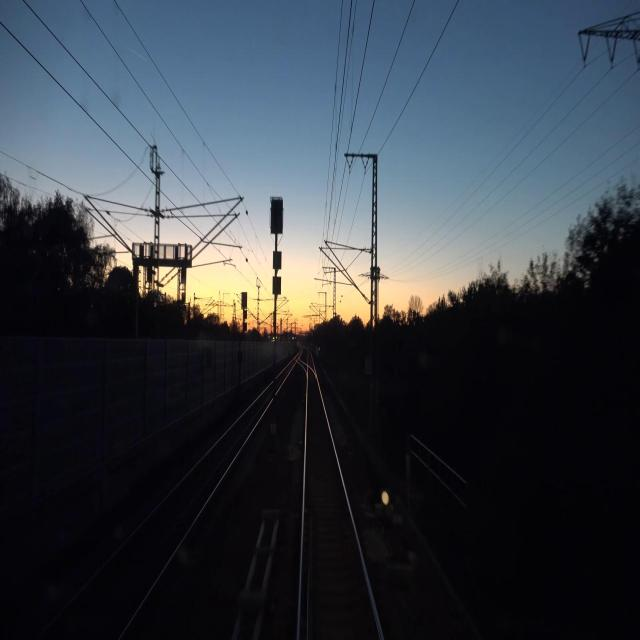rail-track: (38, 385, 273, 639), (301, 370, 379, 639)
